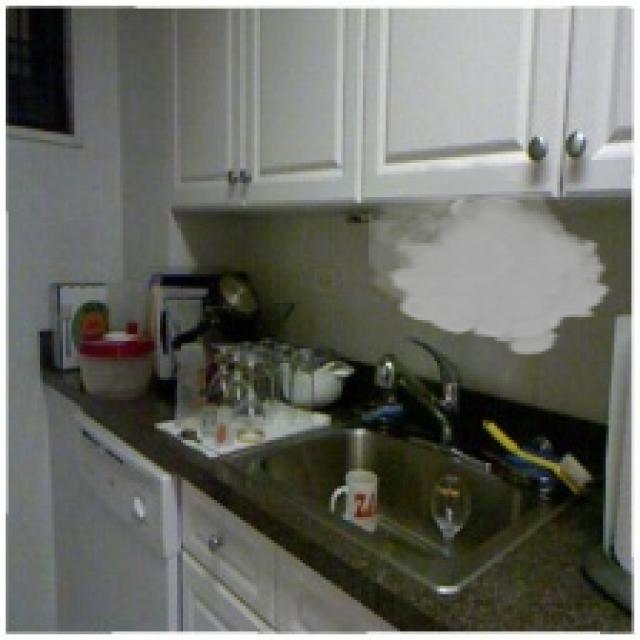smoke: (369, 154, 614, 357)
